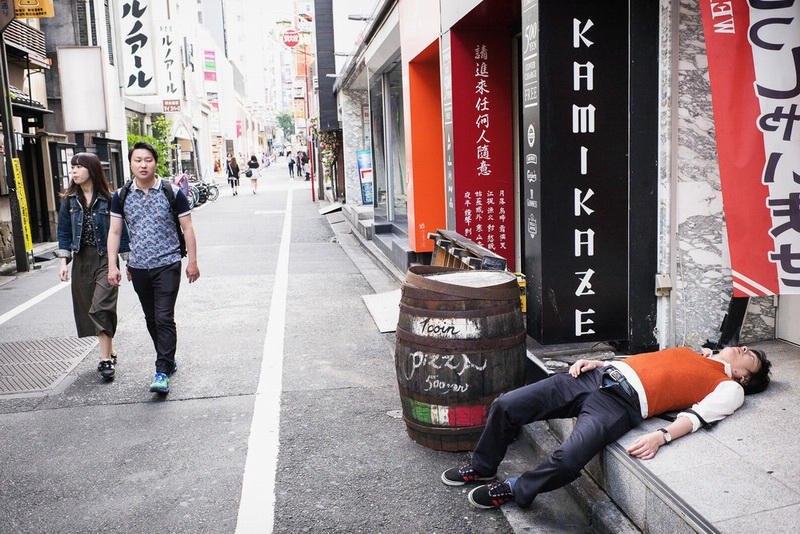people: (443, 347, 766, 507), (121, 145, 197, 395), (60, 153, 122, 374), (223, 151, 238, 190), (247, 153, 260, 188)
